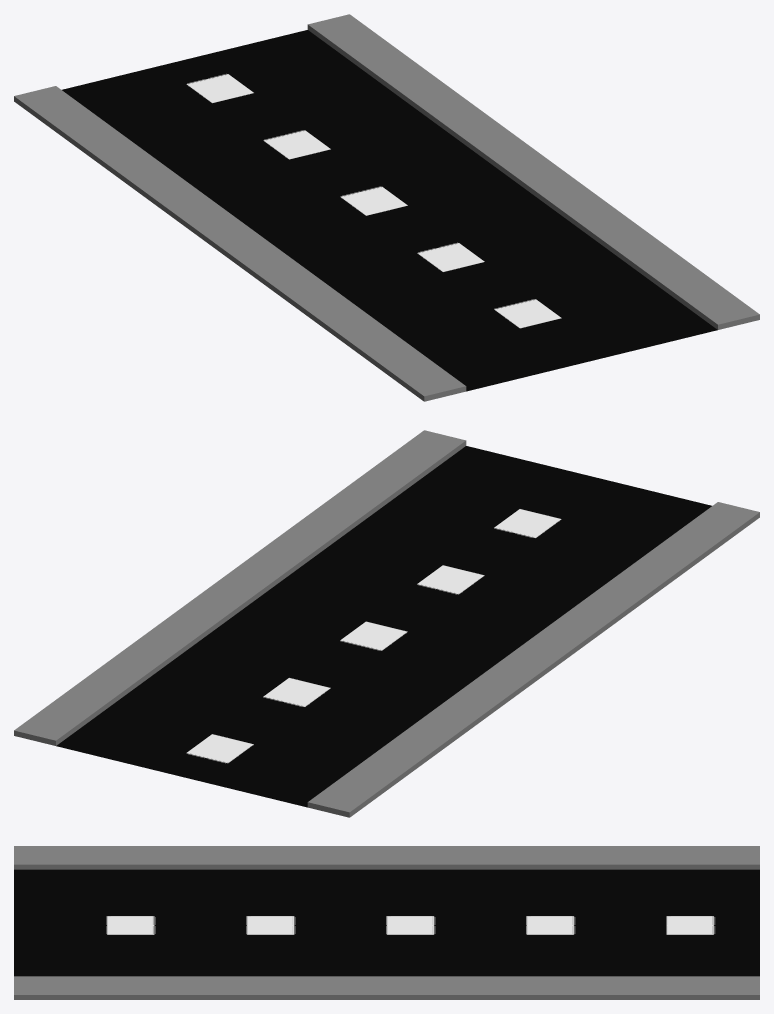
Rendered from Road.fbx.
3 views of the same model, one above another, from view 1: azimuth 30°, elevation 25°; view 2: azimuth 150°, elevation 25°; view 3: azimuth 270°, elevation 25° (orthographic). The views are drawn at different scales.
Visible parts, largest first — view 1: Plane; view 2: Plane; view 3: Plane.
Part boxes in pixels (box(x1,y1,x2,y2)): Plane: box(14, 14, 759, 401); Plane: box(14, 430, 759, 817); Plane: box(14, 846, 759, 999).
Size of the model in its own units: 192 by 2.95 by 407.
1 material, 1 textured.
